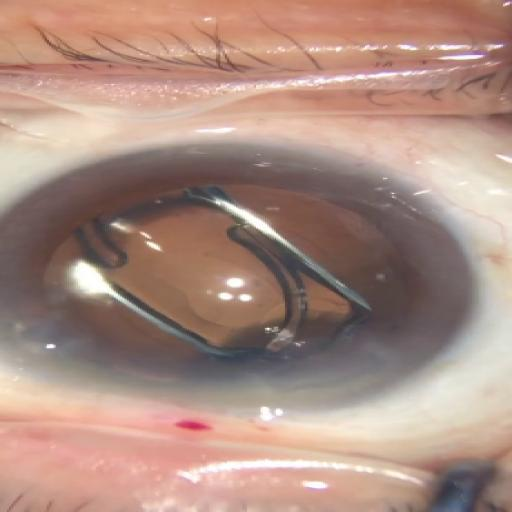catarata: (0, 140, 477, 408)
cornea: (41, 190, 408, 379)
